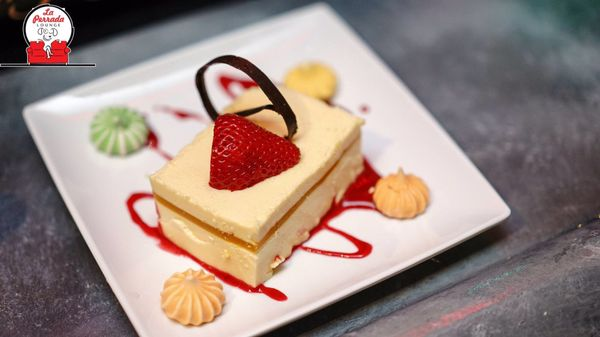sushi: (147, 54, 366, 293)
